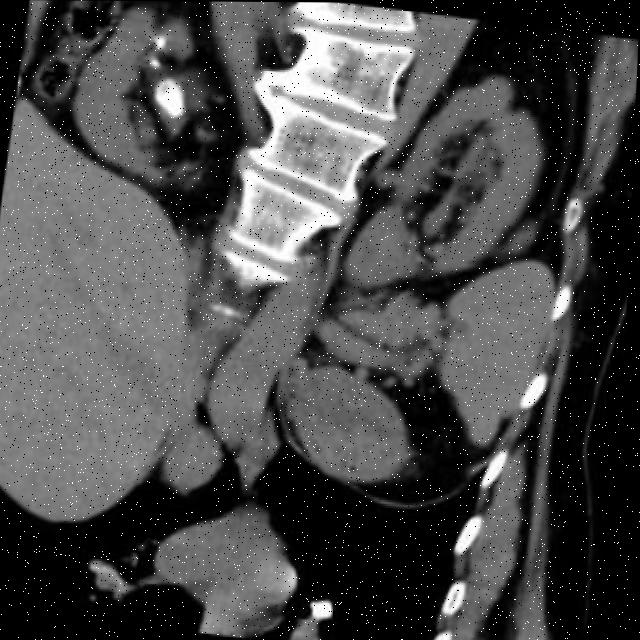Tas_Var: (145, 73, 190, 121), (148, 34, 173, 53), (144, 54, 167, 71)
